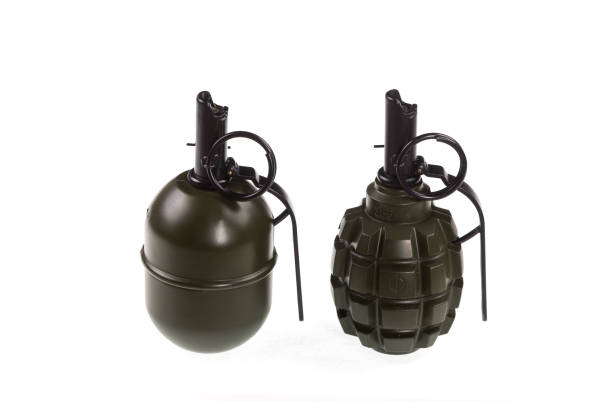e1: (142, 90, 305, 358), (329, 87, 490, 356)
